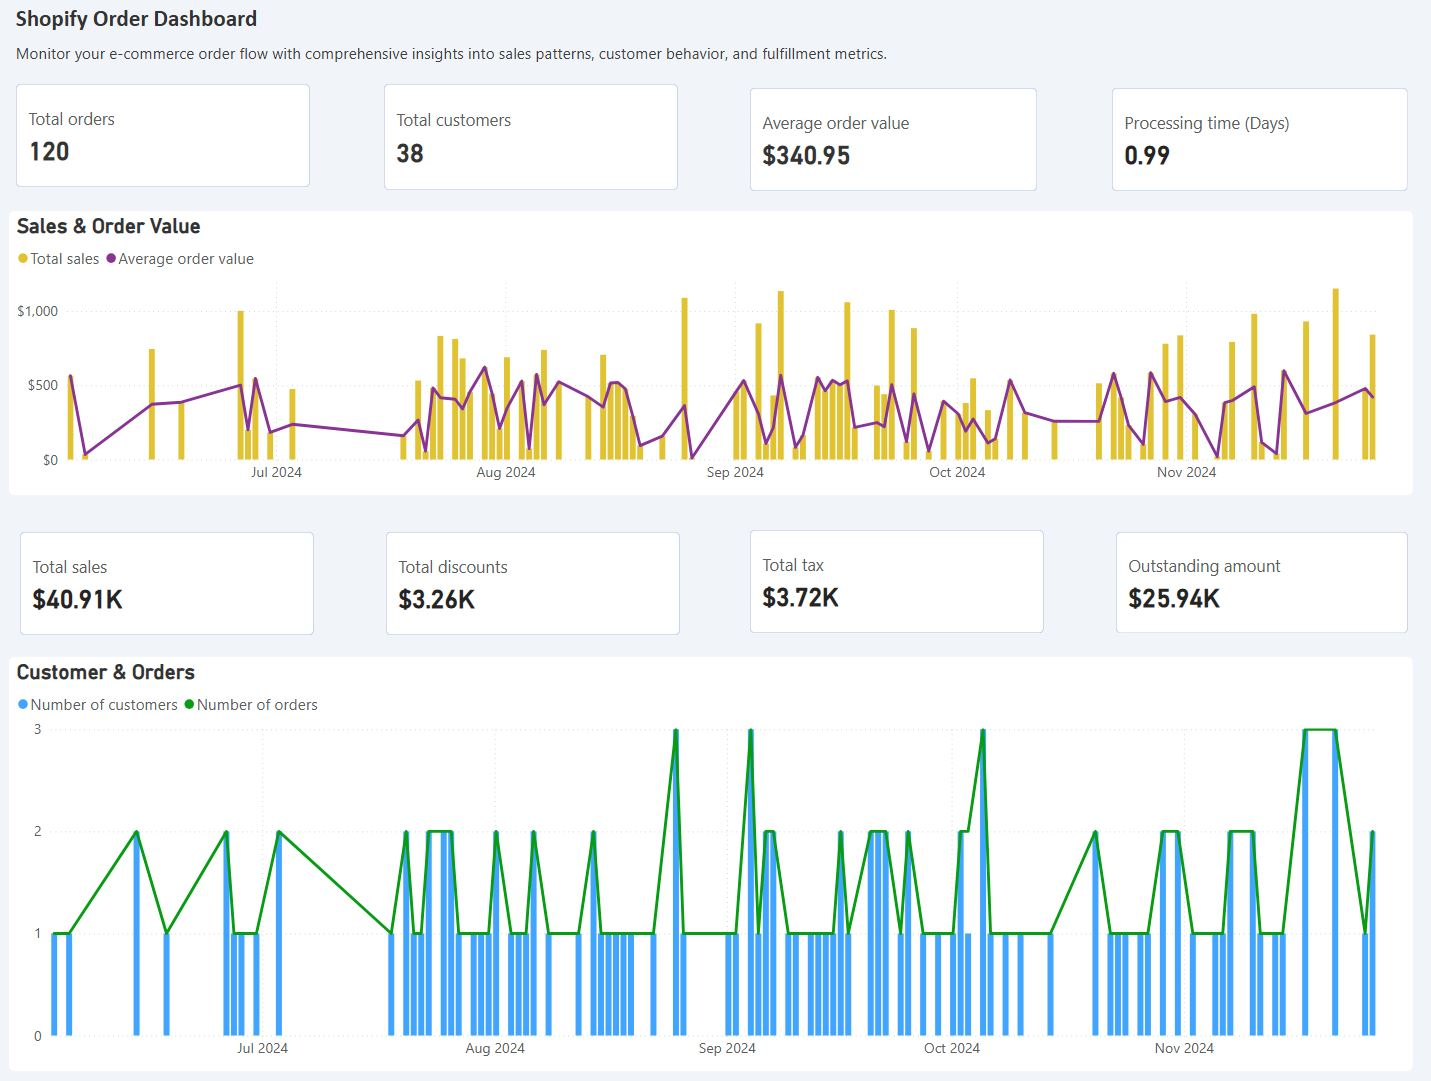

The dashboard page shown, as its layout file describes it:
{"tool":"powerbi","page":{"name":"Overview","canvas":[1500,1150],"ordinal":0},"visuals":[{"type":"cardVisual","fields":{"Data":["Key Measures.Total Orders"]},"box":[12.5,93.9,317.2,119],"z":0},{"type":"cardVisual","fields":{"Data":["Key Measures.Total Customers"]},"box":[395.9,93.9,317.2,121.1],"z":1000},{"type":"cardVisual","fields":{"Data":["Key Measures.Average Order Value"]},"box":[779.2,98.1,311,119],"z":2000},{"type":"lineStackedColumnComboChart","title":"Sales & Order Value","fields":{"Y":["Key Measures.Total Sales"],"Y2":["Key Measures.Average Order Value"],"Category":["orders.created_at"]},"box":[10.4,231.7,1465.2,296.4],"z":3000},{"type":"textbox","box":[12.5,10.4,294.3,39.7],"z":4000},{"type":"textbox","box":[12.5,50.1,928.8,43.8],"z":5000},{"type":"cardVisual","fields":{"Data":["Key Measures.Processing Time (Days)"]},"box":[1156.3,98.1,319.3,119],"z":6000},{"type":"lineStackedColumnComboChart","title":"Customer & Orders","fields":{"Category":["orders.created_at"],"Y":["Key Measures.Total Customers"],"Y2":["Key Measures.Total Orders"]},"box":[10.4,697.1,1465.2,432],"z":7000},{"type":"cardVisual","fields":{"Data":["Key Measures.Total Sales"]},"box":[16.3,562.3,317,118],"z":8000},{"type":"cardVisual","fields":{"Data":["Key Measures.Total Tax"]},"box":[779.1,559.4,317,118],"z":9000},{"type":"cardVisual","fields":{"Data":["Key Measures.Total Discoutns"]},"box":[397.7,562.3,317,118],"z":10000},{"type":"cardVisual","fields":{"Data":["Key Measures.Outstanding Amount"]},"box":[1160.4,561.4,315.2,116.9],"z":11000}]}

Visuals, with their boxes in screenshot pixels (x1, y1, x2, y2), scaled from the page's 1500x1150 canvas onto the 1431x1081 screenshot:
cardVisual - Key Measures.Total Orders: 12, 88, 315, 200
cardVisual - Key Measures.Total Customers: 378, 88, 680, 202
cardVisual - Key Measures.Average Order Value: 743, 92, 1040, 204
"Sales & Order Value" lineStackedColumnComboChart: 10, 218, 1408, 496
textbox: 12, 10, 293, 47
textbox: 12, 47, 898, 88
cardVisual - Key Measures.Processing Time (Days): 1103, 92, 1408, 204
"Customer & Orders" lineStackedColumnComboChart: 10, 655, 1408, 1061
cardVisual - Key Measures.Total Sales: 16, 529, 318, 639
cardVisual - Key Measures.Total Tax: 743, 526, 1046, 637
cardVisual - Key Measures.Total Discoutns: 379, 529, 682, 639
cardVisual - Key Measures.Outstanding Amount: 1107, 528, 1408, 638
